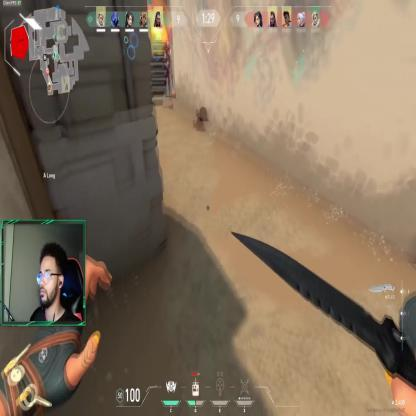enemy: (162, 40, 174, 95)
enemy_head: (166, 40, 170, 48)
